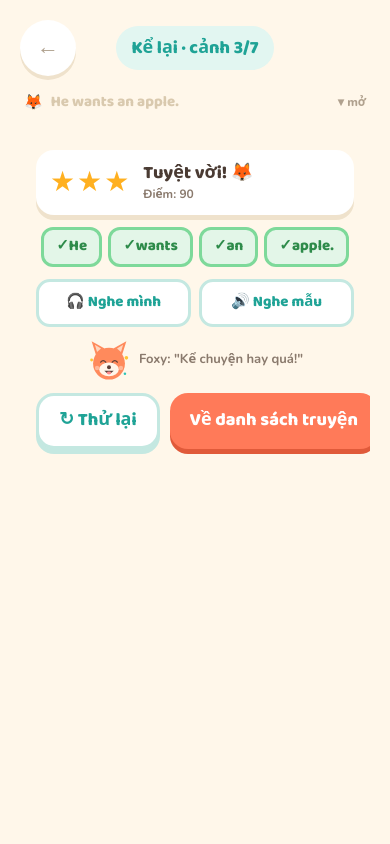
it: collapses the teach card to a tap-to-expand strip once a result lands, and reopens on tap
Click the button "🦊 He wants an apple. ▾ mở" at (115,102), box [20,86,370,118]
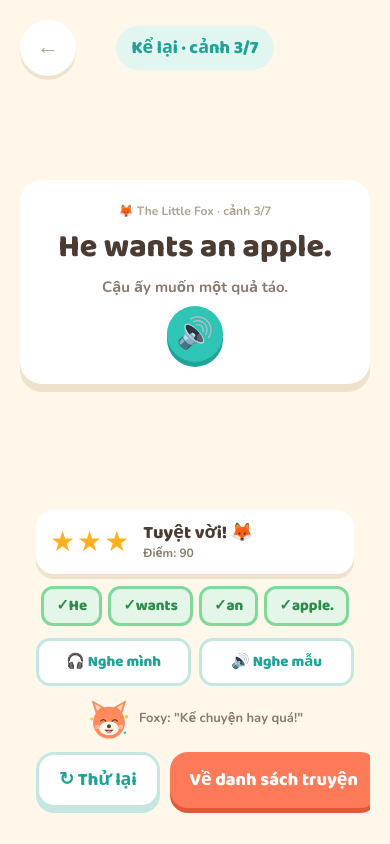
expect the button "mở" is gone: met
expect the text "He wants an apple." is shown once: met, box [58,228,332,268]
